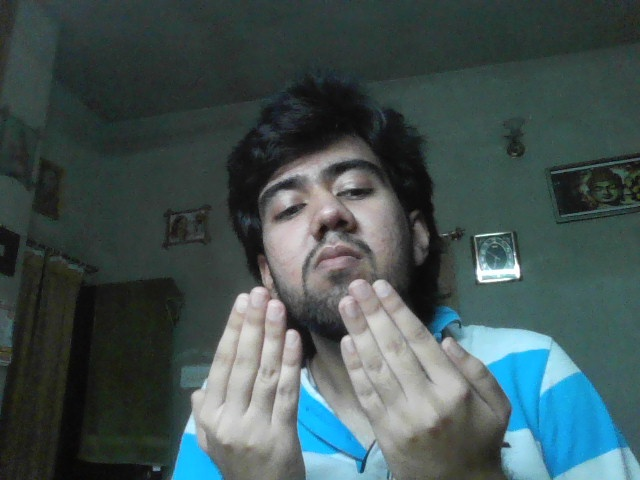ThankYou: (192, 279, 512, 480)
